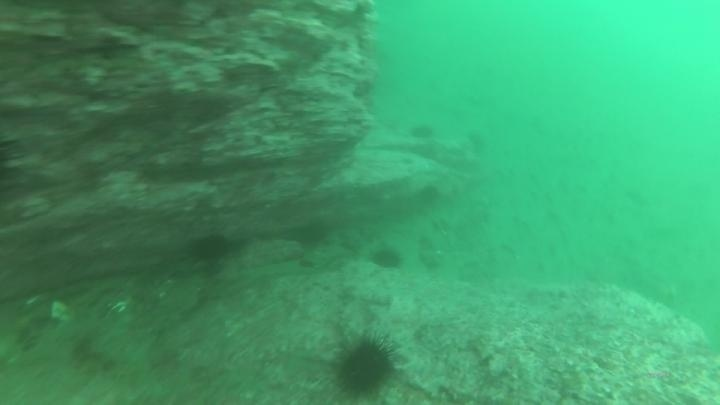echinus: (328, 330, 402, 402), (186, 230, 233, 267), (368, 243, 405, 272), (407, 120, 437, 144), (424, 181, 442, 202)
